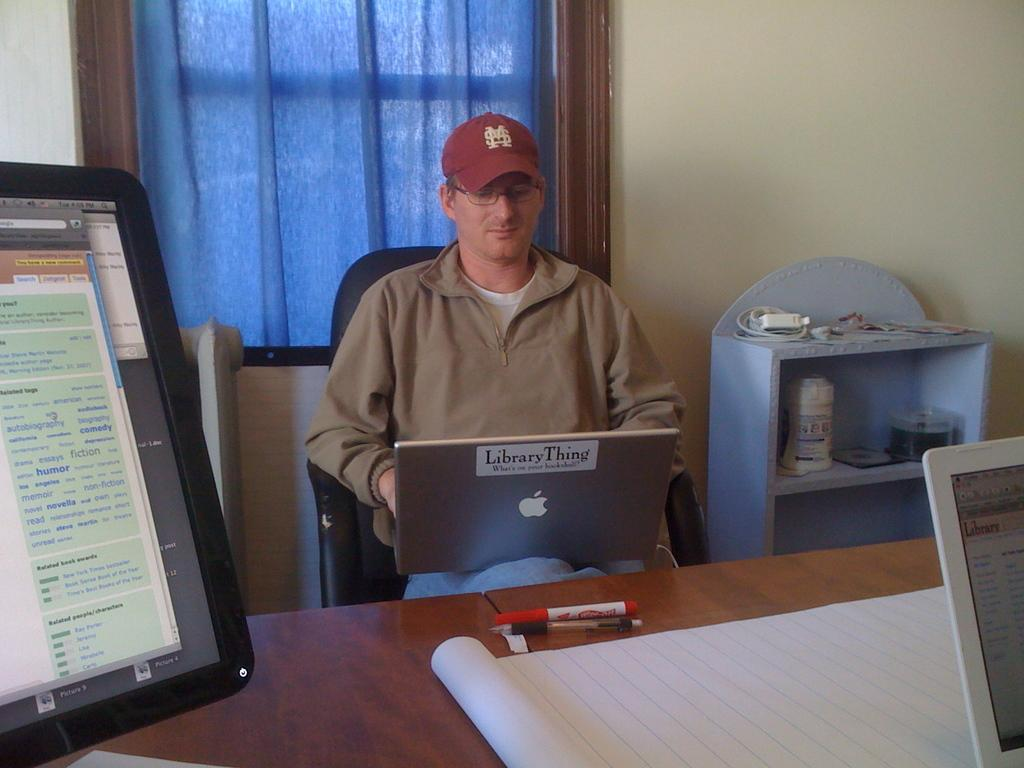Laptop: (392, 432, 676, 571), (922, 437, 1023, 767)
